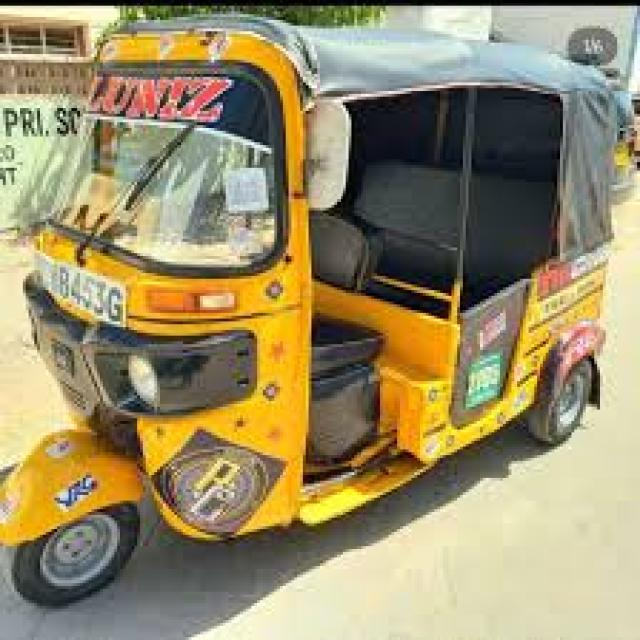tuktuk: (1, 9, 634, 618)
